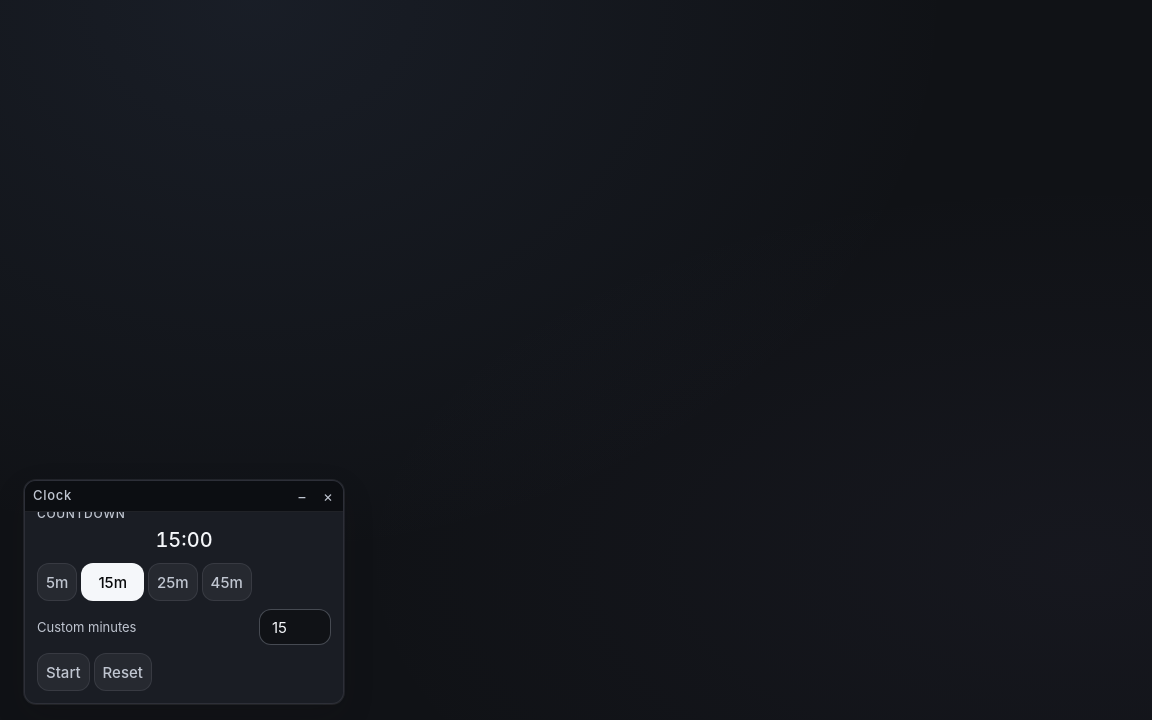
Test case: ClockPanel — countdown presets and bounds › clamps a custom-minutes entry above 180 down to 180
(page scrolled)
Step 1. Replace the text in the number field labelled "Custom minutes" with "500" → (295, 627), box [259,609,331,645]
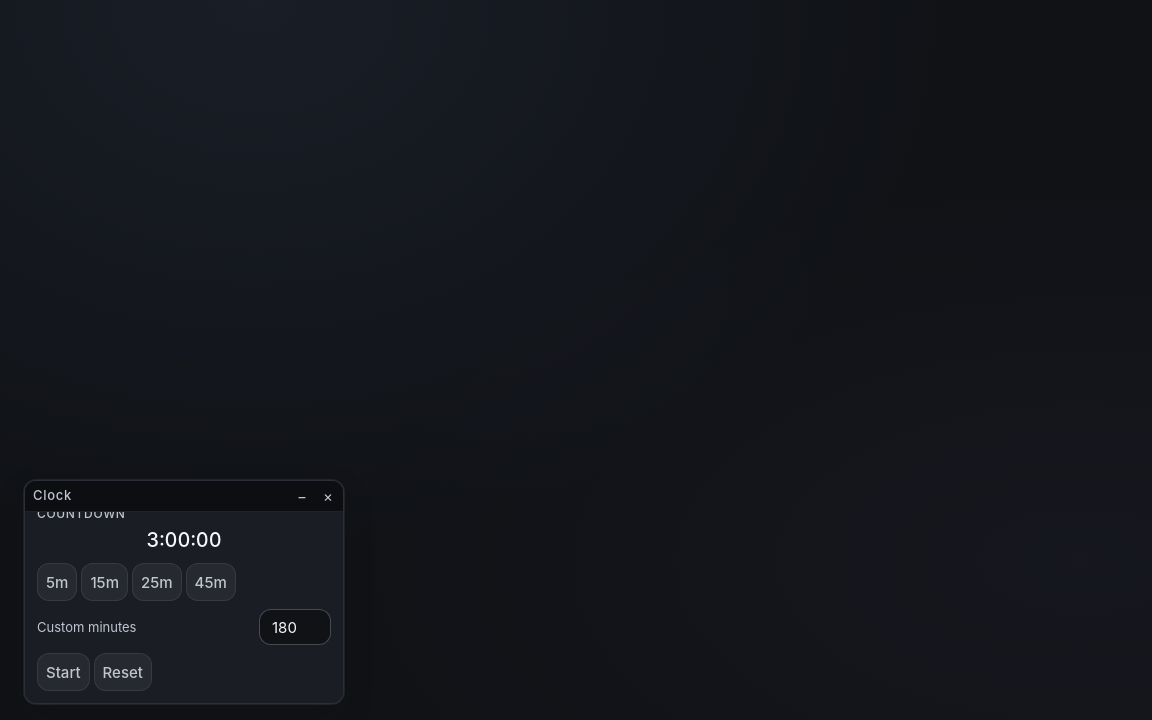
Expected: the number field labelled "Custom minutes" holds "180", [259,609,331,645]
Expected: the text "3:00:00" is shown, [146,528,222,552]
